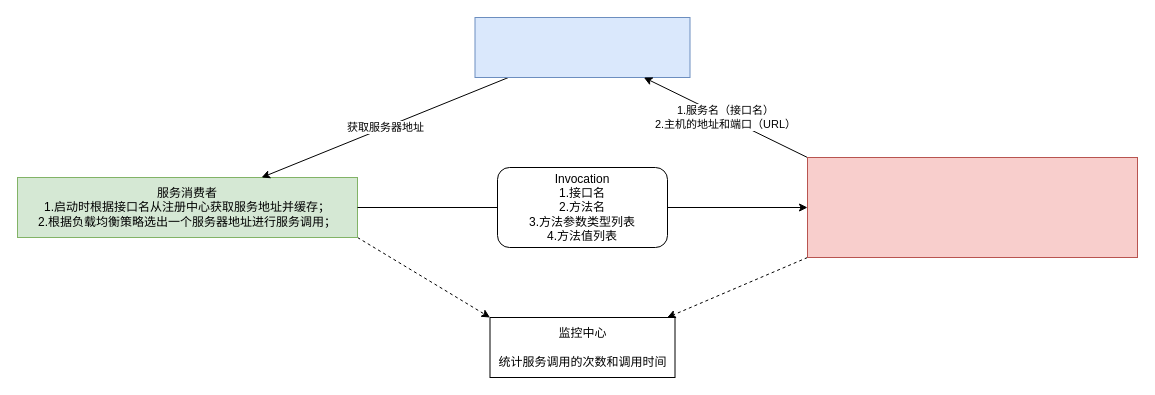
The diagram is 1155 pixels wide and 395 high, and some of its shapes have lost their labels. Each missing label, with the box of its shape:
服务提供者 1.提供服务的接口 2.提供实现类 3.注册服务（注册中心注册，本地注册） 4.暴露服务（启动Tomcat，NettyServer，接收并处理请求）: (806, 156, 1138, 258)
注册中心 1.保存服务名与服务器地址映射关系 {服务名：List<URL>} 2.服务地址变动主动通知服务消费者: (474, 16, 690, 78)
